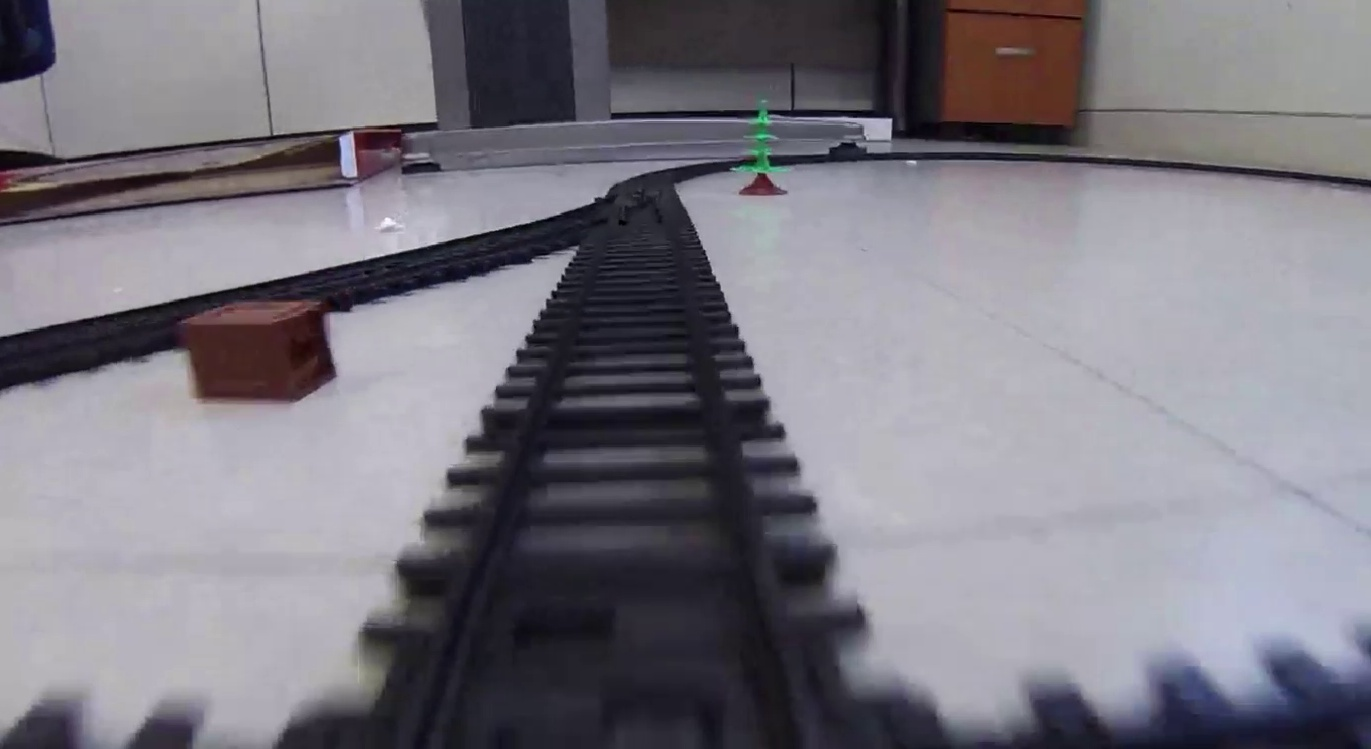box: (185, 300, 335, 405)
tree: (729, 99, 794, 196)
